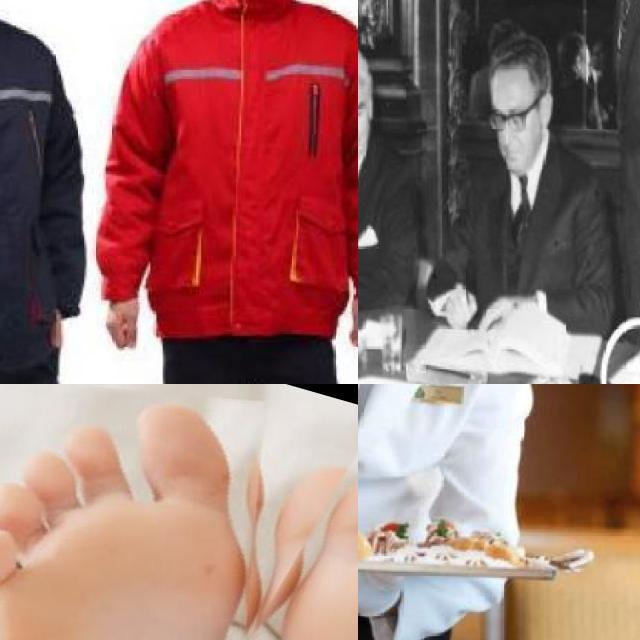Barefoots: (0, 384, 339, 640), (108, 427, 358, 640)
face_nomask: (492, 87, 540, 174), (358, 94, 380, 175)
glasses: (488, 109, 533, 138)
hand_glove: (358, 563, 403, 620)
hand_noglove: (101, 298, 140, 352), (477, 294, 530, 333), (447, 285, 478, 328), (345, 294, 358, 349)
head_nohelmet: (470, 40, 556, 88), (358, 22, 377, 91)
person: (98, 0, 358, 384), (442, 34, 620, 350), (0, 0, 95, 384), (562, 0, 640, 335), (358, 28, 434, 328)
